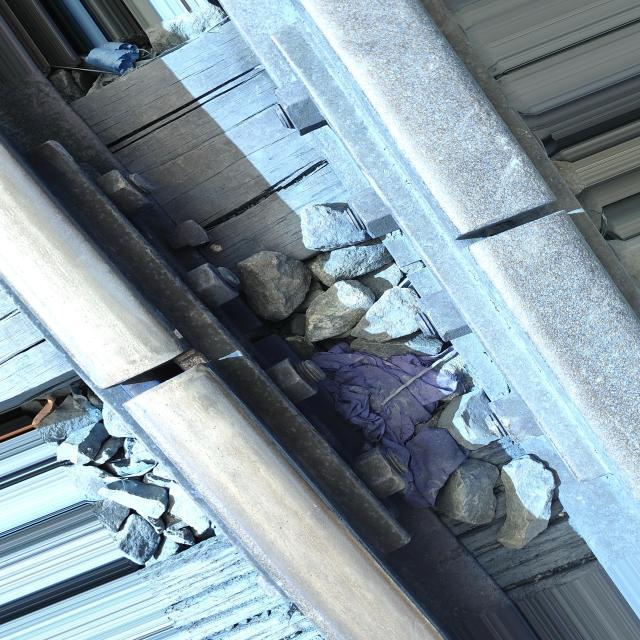Good Joint: (27, 140, 409, 552)
